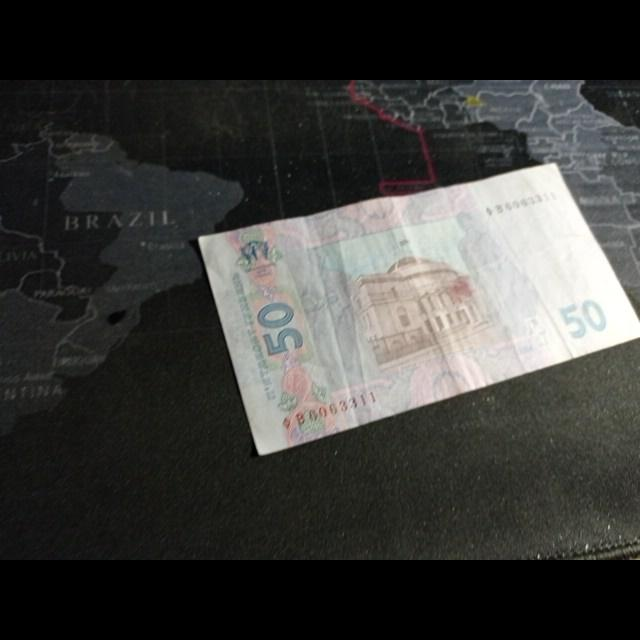50uah: (197, 161, 640, 456)
